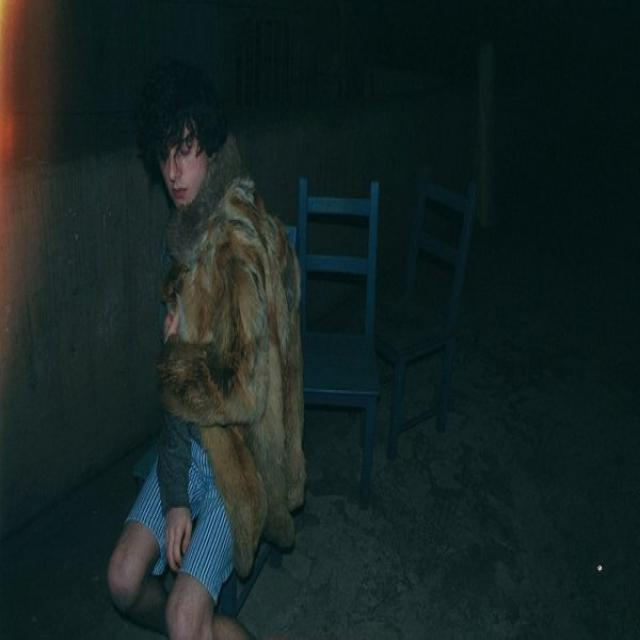People: (108, 54, 295, 640)
chair: (292, 176, 398, 546), (412, 149, 512, 494)
